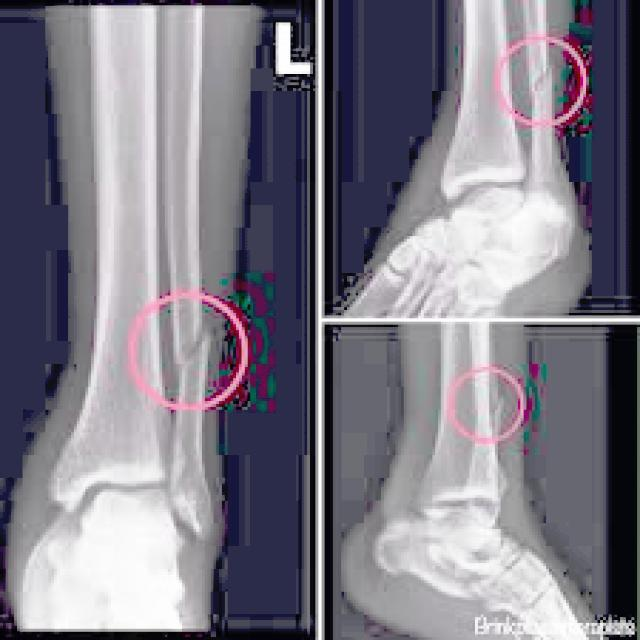Comminuted Fracture: (164, 324, 224, 374), (528, 56, 566, 114), (476, 386, 509, 426)
